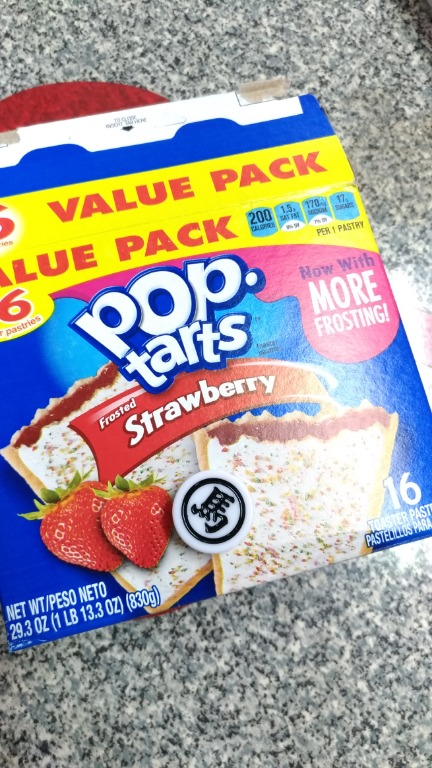b-knight: (148, 463, 273, 560)
